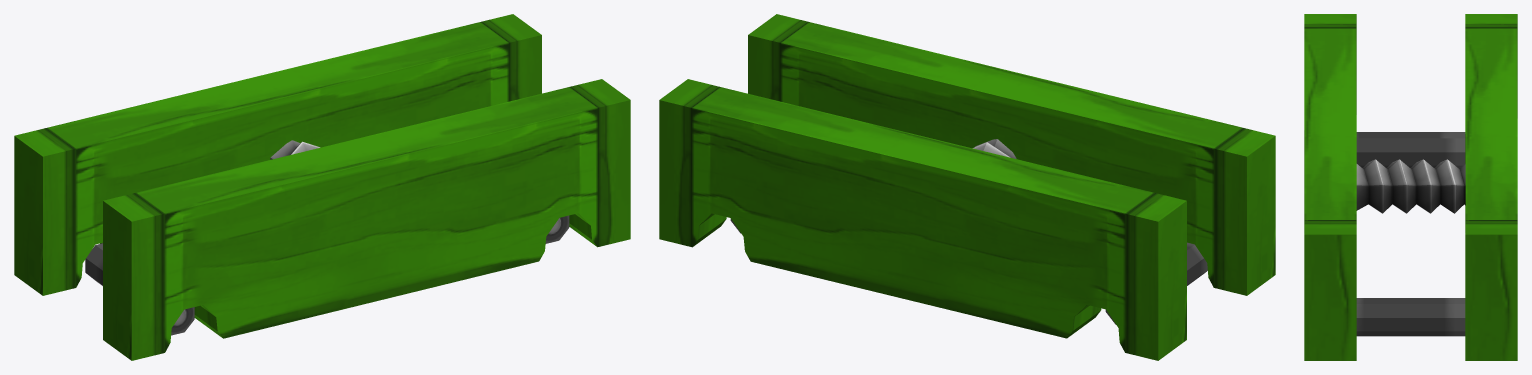
File: dynamic_fence_green_02.fbx
3 views of the same model, side by side, from view 1: azimuth 30°, elevation 25°; view 2: azimuth 150°, elevation 25°; view 3: azimuth 270°, elevation 25° (orthographic). The views are drawn at different scales.
Visible parts, largest first — view 1: front_wall_9, back_wall_6; view 2: back_wall_6, front_wall_9; view 3: back_wall_6, front_wall_9, spring_15.
Part boxes in pixels (x1,y1,x2,y2): front_wall_9: (103,79,630,360); back_wall_6: (14,14,569,335); back_wall_6: (659,79,1207,360); front_wall_9: (748,14,1275,295); back_wall_6: (1356,14,1517,360); front_wall_9: (1304,14,1356,360); spring_15: (1356,159,1465,213).
Bounding box in the file's own units: 150 × 40 × 61.3.
